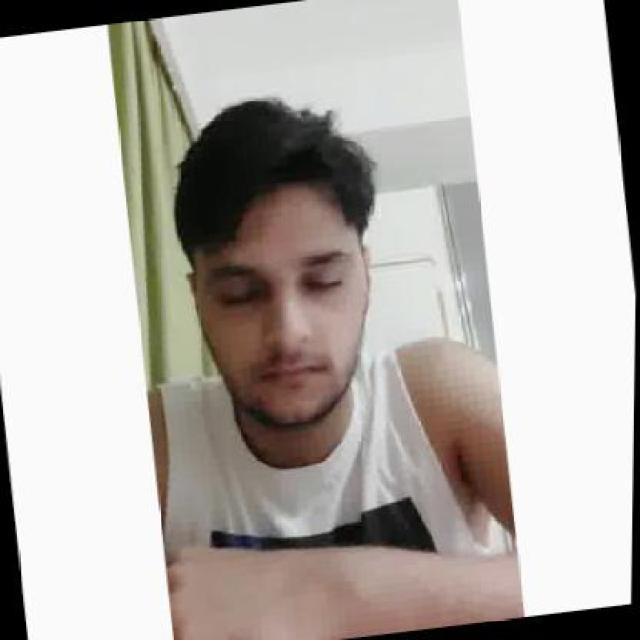inattentif: (158, 82, 392, 438)
